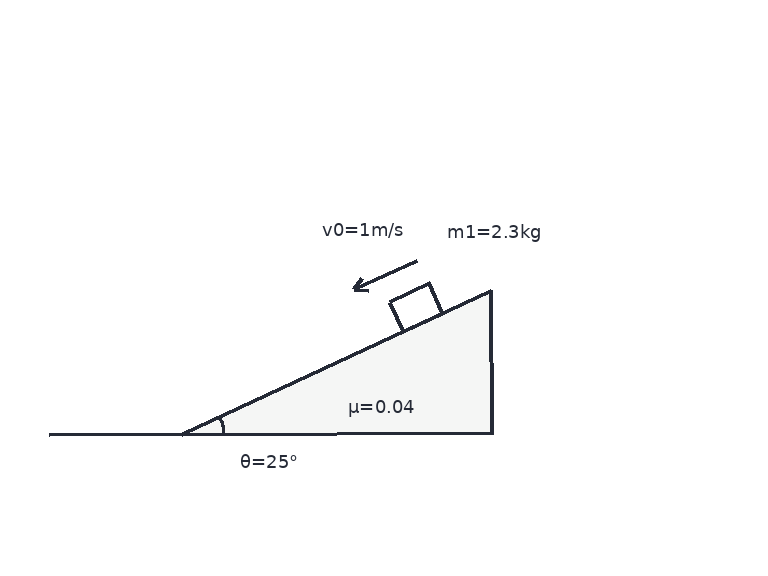block: (387, 282, 445, 334)
ramp: (181, 288, 493, 436)
